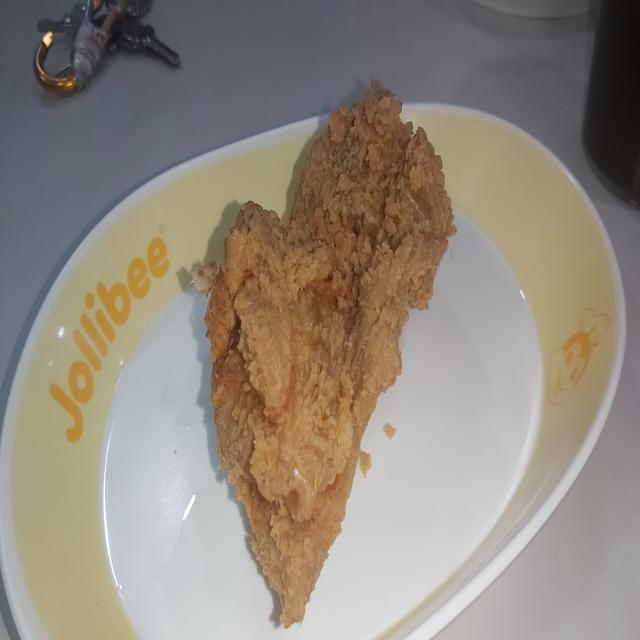Chicken -Fried Chicken-: (200, 74, 457, 626)
